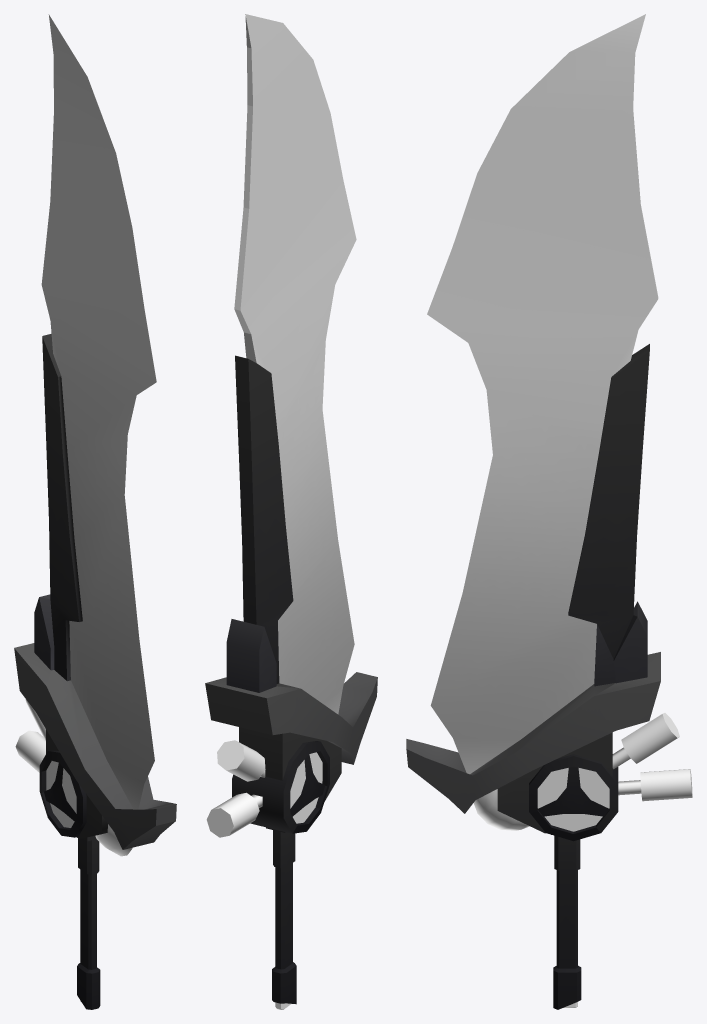
The model's file is Weapon_machete.fbx.
The picture shows the model from 3 angles, left to right: view 1: azimuth 30°, elevation 25°; view 2: azimuth 150°, elevation 25°; view 3: azimuth 270°, elevation 25°; orthographic projection. The views are drawn at different scales.
Parts seen in each view (by area): view 1: W_SB_3; view 2: W_SB_3; view 3: W_SB_3.
Boxes of the visible parts, x1,y1,x2,y2 form: W_SB_3: (14, 14, 176, 1009); W_SB_3: (205, 14, 377, 1009); W_SB_3: (406, 14, 692, 1009).
Size of the model in its own units: 7.56 by 120 by 31.33.
